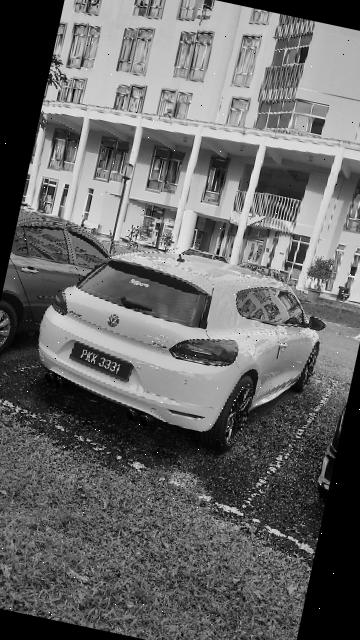License_Plate: (66, 338, 142, 388)
car: (25, 224, 341, 471), (1, 200, 130, 385)
